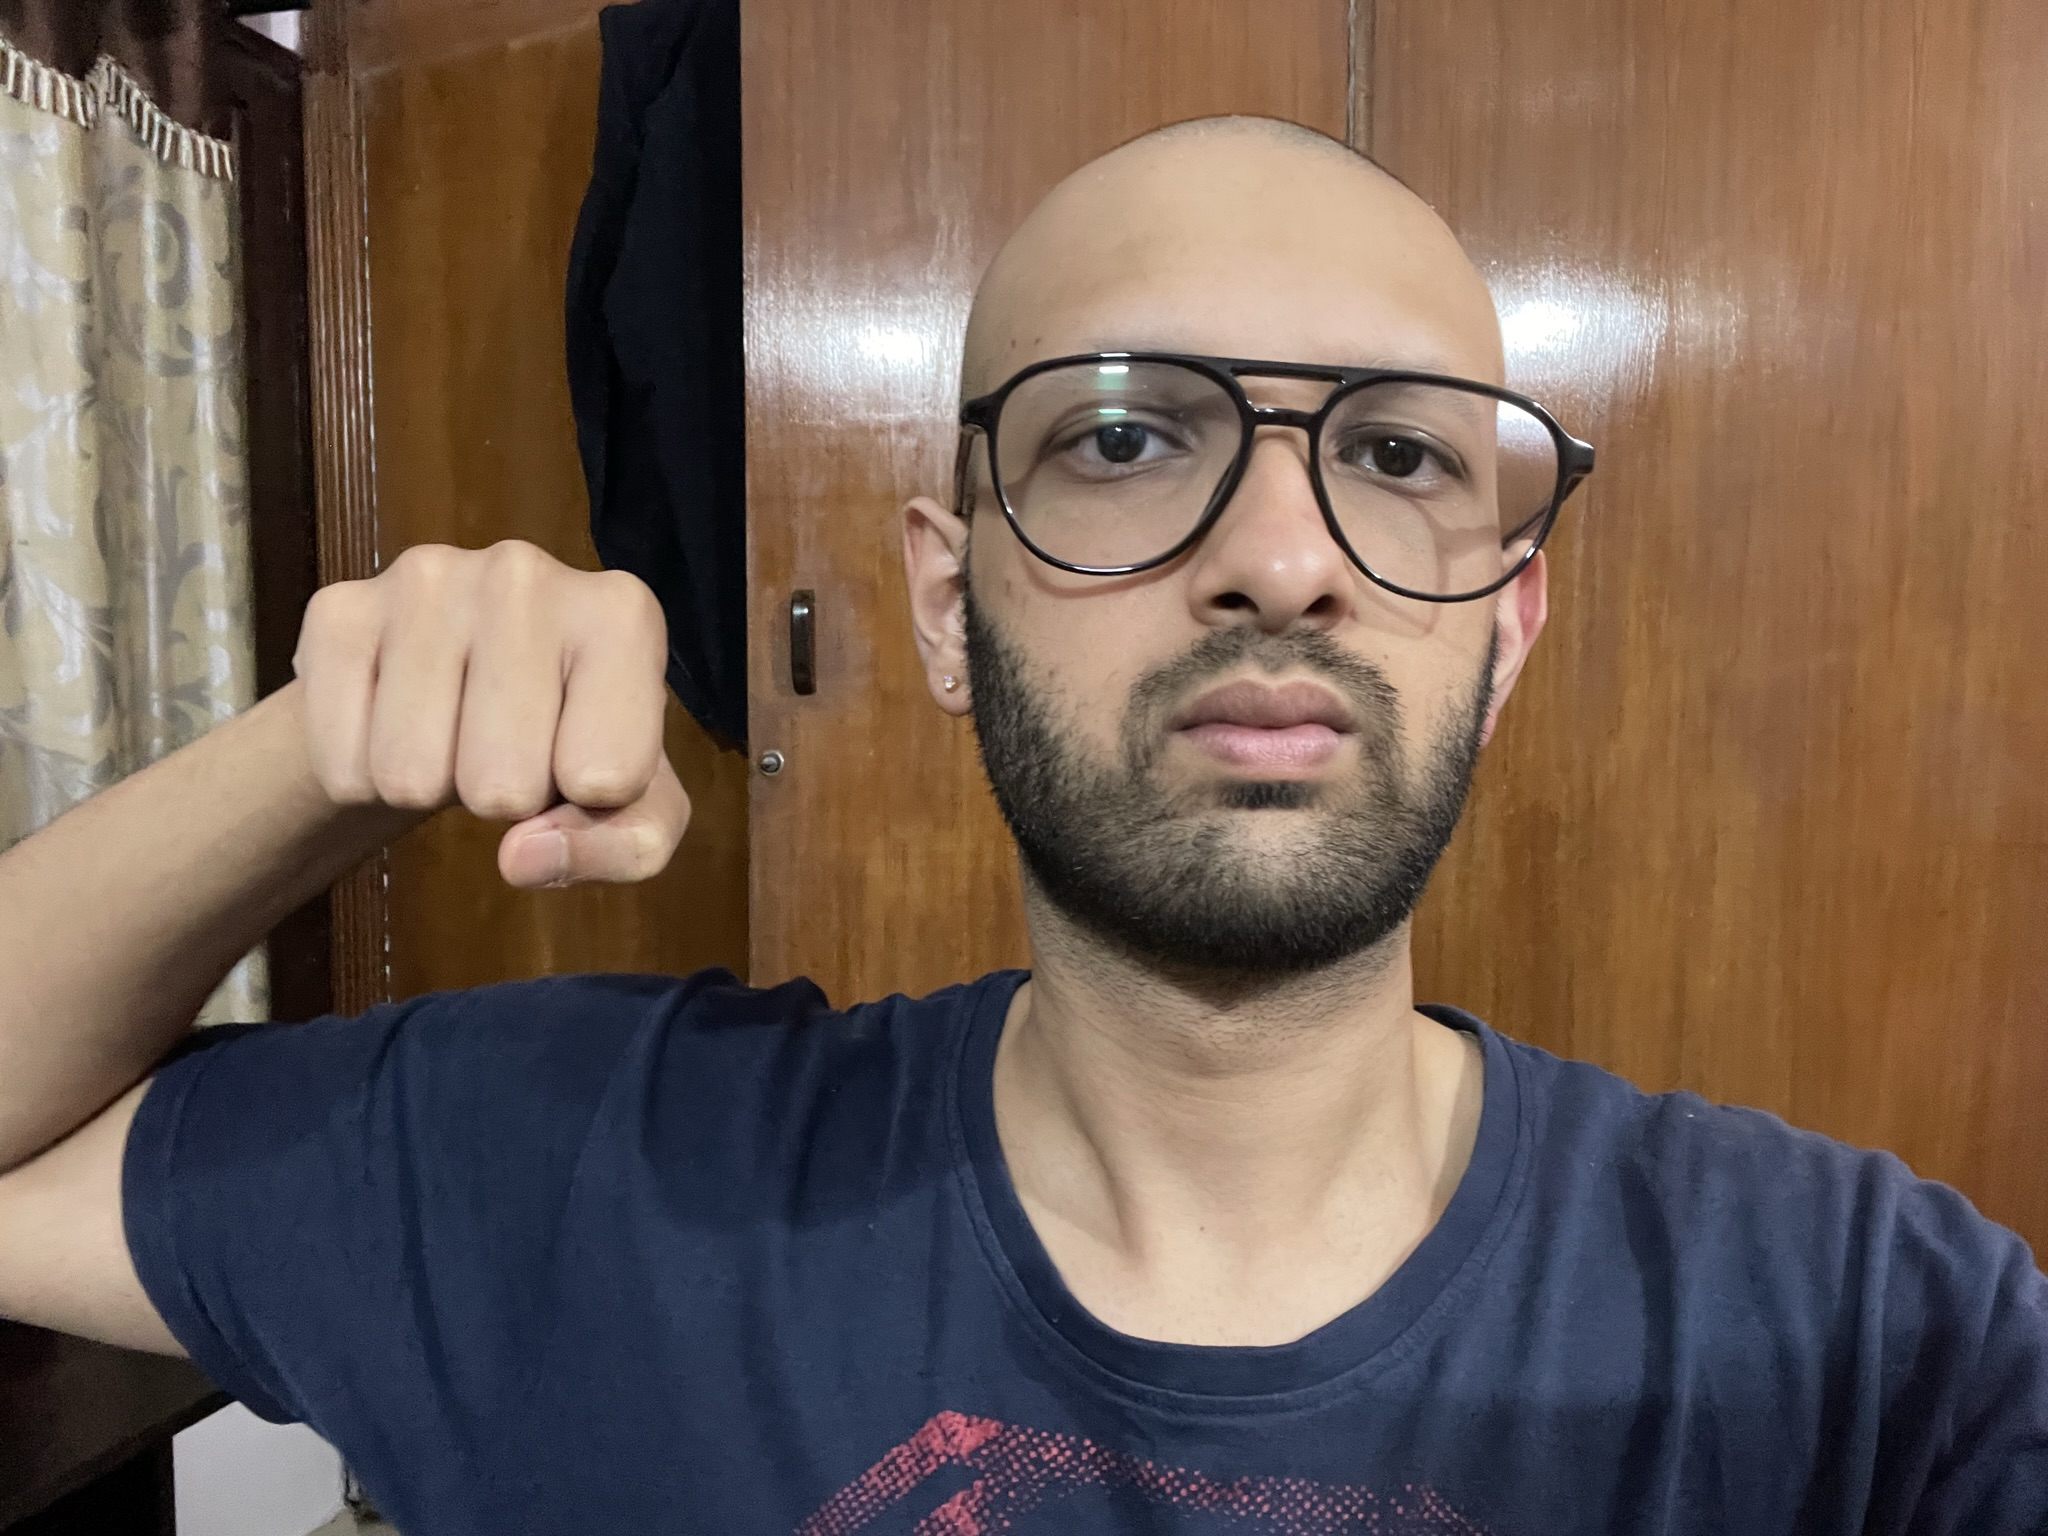Yes: (285, 532, 701, 887)
